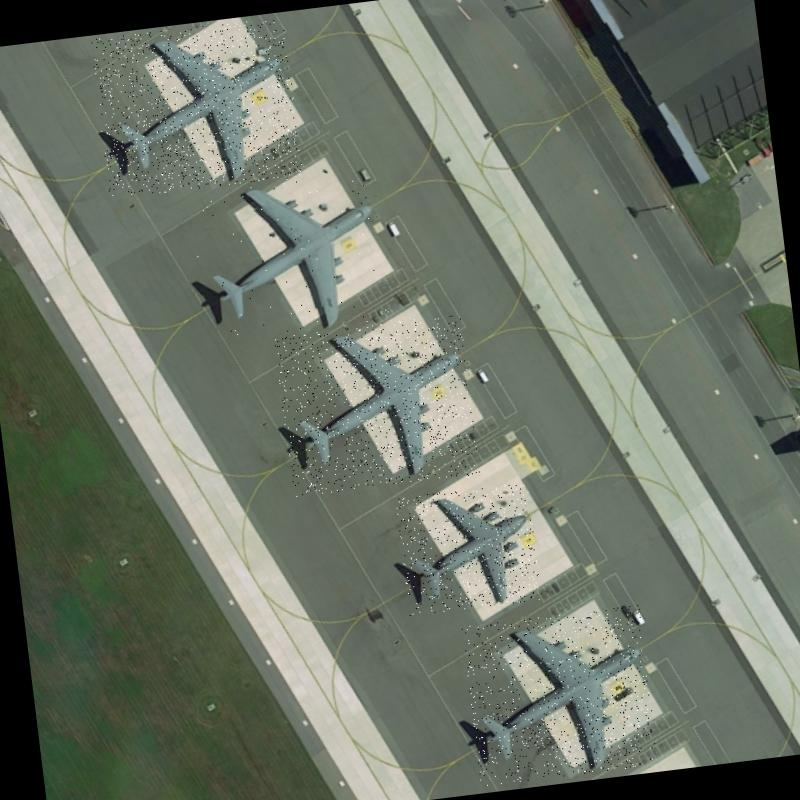A3: (394, 482, 542, 616)
A4: (90, 15, 303, 200), (274, 313, 480, 497), (189, 166, 394, 349), (461, 604, 658, 786)
